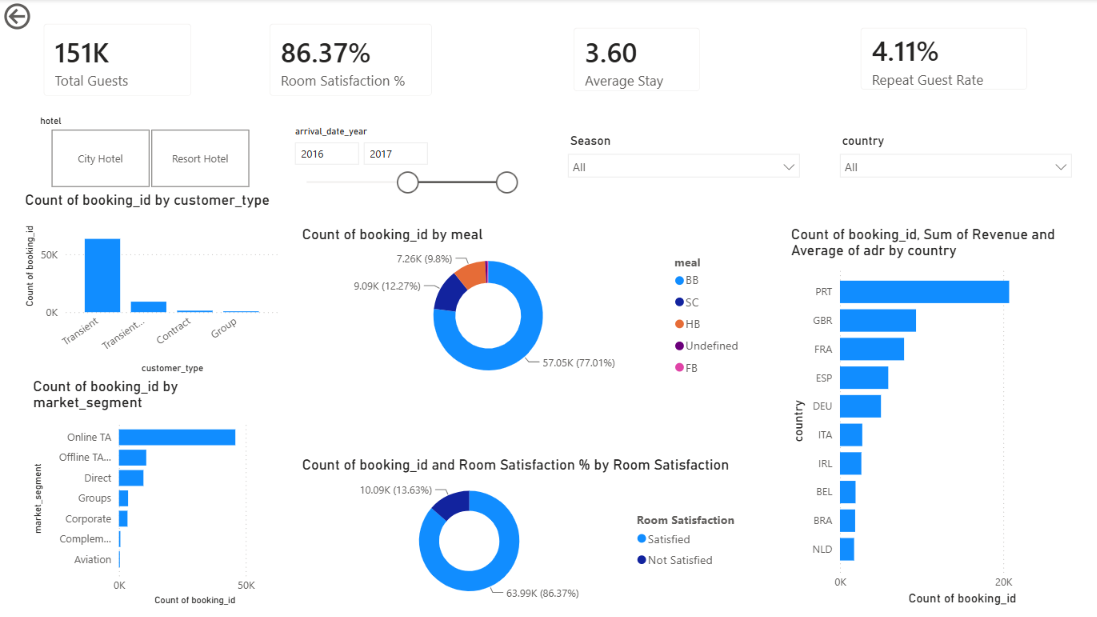

What the dashboard file says about the page in this screenshot:
{"tool":"powerbi","page":{"name":"Page 2","canvas":[1280,720],"ordinal":2},"visuals":[{"type":"cardVisual","fields":{"Data":["Hotel Bookings.Total Guests"]},"box":[33.3,11.7,206.7,118.3],"z":0},{"type":"cardVisual","fields":{"Data":["Hotel Bookings.Average Stay"]},"box":[650,16.7,181.7,108.3],"z":1},{"type":"cardVisual","fields":{"Data":["Hotel Bookings.Repeat Guest Rate"]},"box":[983.3,16.7,228.3,106.7],"z":2},{"type":"cardVisual","fields":{"Data":["Hotel Bookings.Room Satisfaction %"]},"box":[296.7,11.7,223.3,118.3],"z":3},{"type":"slicer","fields":{"Values":["Hotel Bookings.hotel"]},"box":[33.3,130,280,95],"z":4},{"type":"slicer","fields":{"Values":["Hotel Bookings.arrival_date_year"]},"box":[330,141.7,280,107.5],"z":5},{"type":"slicer","fields":{"Values":["Hotel Bookings.Season"]},"box":[650,151.7,290,86.7],"z":6},{"type":"slicer","fields":{"Values":["Hotel Bookings.country"]},"box":[966.7,151.7,290,88.3],"z":7},{"type":"clusteredBarChart","fields":{"Category":["Hotel Bookings.country"],"Y":["Count(Hotel Bookings.booking_id)"]},"box":[915,263.3,361.7,446.7],"z":8},{"type":"actionButton","box":[0,0,100,40],"z":9},{"type":"donutChart","fields":{"Category":["Hotel Bookings.meal"],"Y":["CountNonNull(Hotel Bookings.booking_id)"]},"box":[346.7,263.3,526.7,191.7],"z":10},{"type":"clusteredBarChart","fields":{"Category":["Hotel Bookings.market_segment"],"Y":["CountNonNull(Hotel Bookings.booking_id)"]},"box":[33.3,440,296.7,270],"z":11},{"type":"clusteredColumnChart","fields":{"Category":["Hotel Bookings.customer_type"],"Y":["CountNonNull(Hotel Bookings.booking_id)"]},"box":[25,223.3,305,216.7],"z":12},{"type":"donutChart","fields":{"Y":["CountNonNull(Hotel Bookings.booking_id)"],"Category":["Hotel Bookings.Room Satisfaction"]},"box":[346.7,531.7,526.7,178.3],"z":13}]}

Visuals, with their boxes in screenshot pixels (x1, y1, x2, y2), scaled from the page's 1280x720 canvas onto the 1097x617 screenshot:
cardVisual - Hotel Bookings.Total Guests: (x1=29, y1=10, x2=206, y2=111)
cardVisual - Hotel Bookings.Average Stay: (x1=557, y1=14, x2=713, y2=107)
cardVisual - Hotel Bookings.Repeat Guest Rate: (x1=843, y1=14, x2=1038, y2=106)
cardVisual - Hotel Bookings.Room Satisfaction %: (x1=254, y1=10, x2=446, y2=111)
slicer - Hotel Bookings.hotel: (x1=29, y1=111, x2=269, y2=193)
slicer - Hotel Bookings.arrival_date_year: (x1=283, y1=121, x2=523, y2=214)
slicer - Hotel Bookings.Season: (x1=557, y1=130, x2=806, y2=204)
slicer - Hotel Bookings.country: (x1=828, y1=130, x2=1077, y2=206)
clusteredBarChart - Hotel Bookings.country x Count(Hotel Bookings.booking_id): (x1=784, y1=226, x2=1094, y2=608)
actionButton: (x1=0, y1=0, x2=86, y2=34)
donutChart - Hotel Bookings.meal x CountNonNull(Hotel Bookings.booking_id): (x1=297, y1=226, x2=749, y2=390)
clusteredBarChart - Hotel Bookings.market_segment x CountNonNull(Hotel Bookings.booking_id): (x1=29, y1=377, x2=283, y2=608)
clusteredColumnChart - Hotel Bookings.customer_type x CountNonNull(Hotel Bookings.booking_id): (x1=21, y1=191, x2=283, y2=377)
donutChart - CountNonNull(Hotel Bookings.booking_id) x Hotel Bookings.Room Satisfaction: (x1=297, y1=456, x2=749, y2=608)
